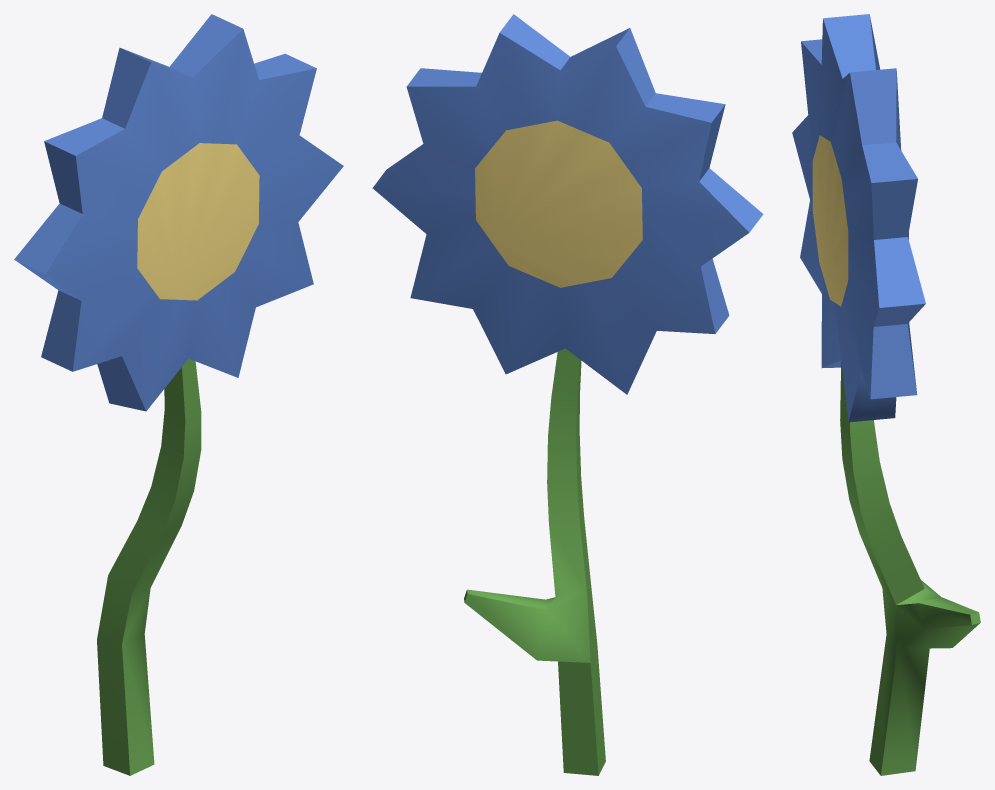
Rendered from Blume2.fbx.
3 views of the same model, side by side, from view 1: azimuth 30°, elevation 25°; view 2: azimuth 150°, elevation 25°; view 3: azimuth 270°, elevation 25° (orthographic). The views are drawn at different scales.
Parts seen in each view (by area): view 1: Blume2; view 2: Blume2; view 3: Blume2.
Boxes of the visible parts, x1=… form: Blume2: x1=14, y1=14, x2=343, y2=775; Blume2: x1=372, y1=14, x2=763, y2=775; Blume2: x1=792, y1=14, x2=980, y2=775.
Size of the model in its own units: 130 by 259 by 59.76.
